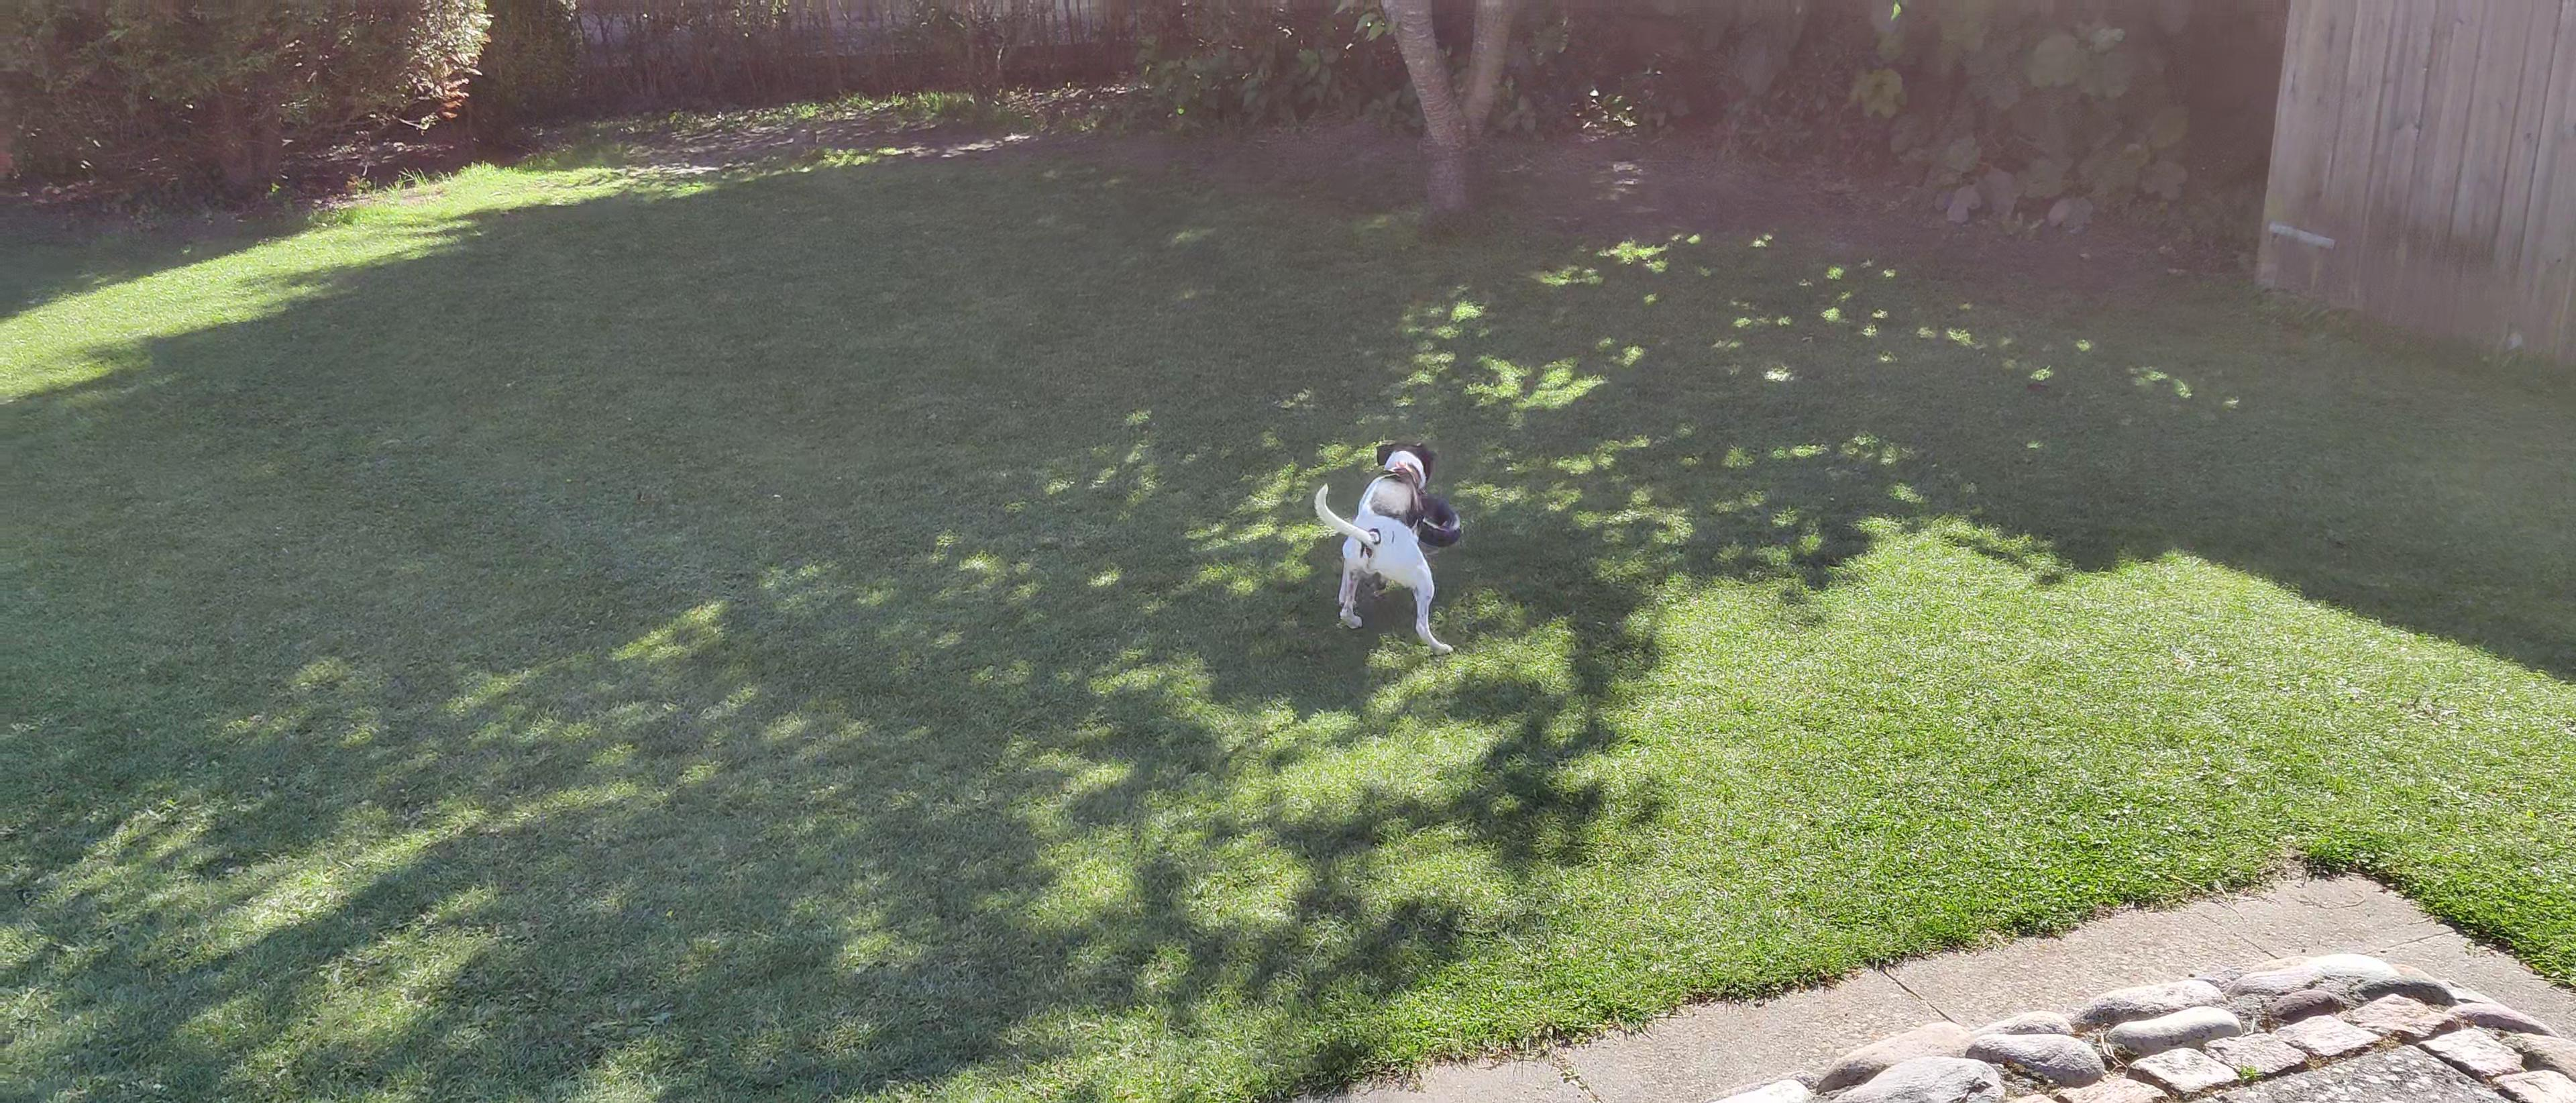Dog: (1311, 434, 1457, 654)
